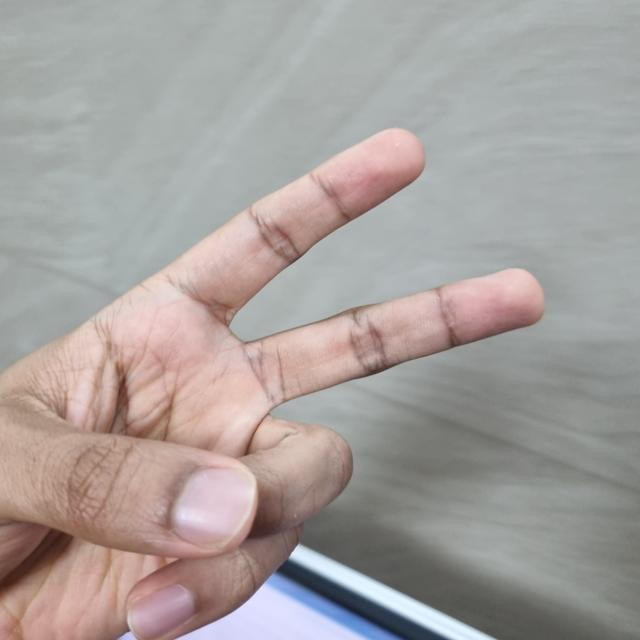Scissors: (0, 130, 538, 640)
